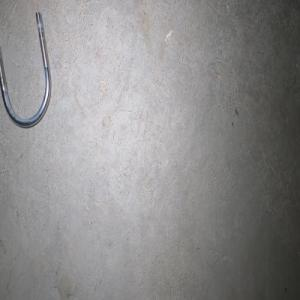ClampPart: (0, 10, 52, 129)
